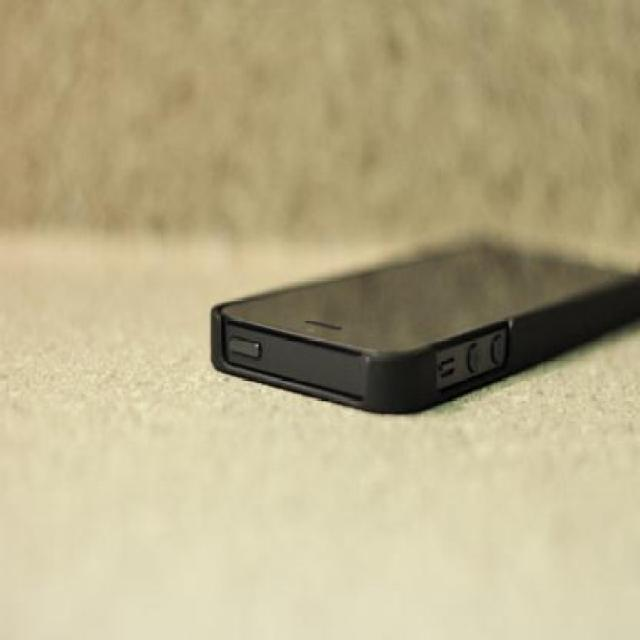phone: (213, 221, 604, 419)
